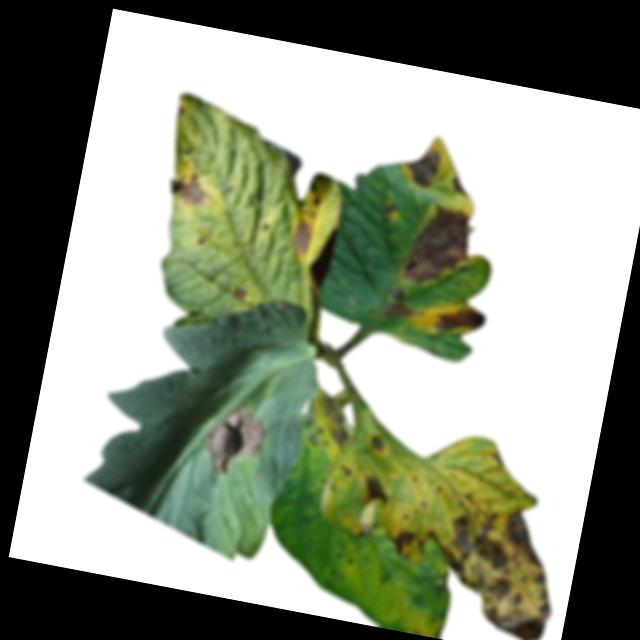Early_blight: (401, 490, 570, 640), (399, 198, 478, 294), (197, 397, 274, 485), (308, 394, 359, 455), (432, 301, 491, 344), (166, 169, 218, 212), (400, 141, 442, 194), (383, 282, 418, 322), (361, 469, 395, 510), (288, 214, 318, 260), (385, 523, 417, 560), (448, 172, 476, 199), (305, 181, 327, 207), (354, 518, 377, 542), (381, 201, 402, 225), (366, 433, 387, 457), (337, 463, 356, 482), (233, 285, 250, 304)
